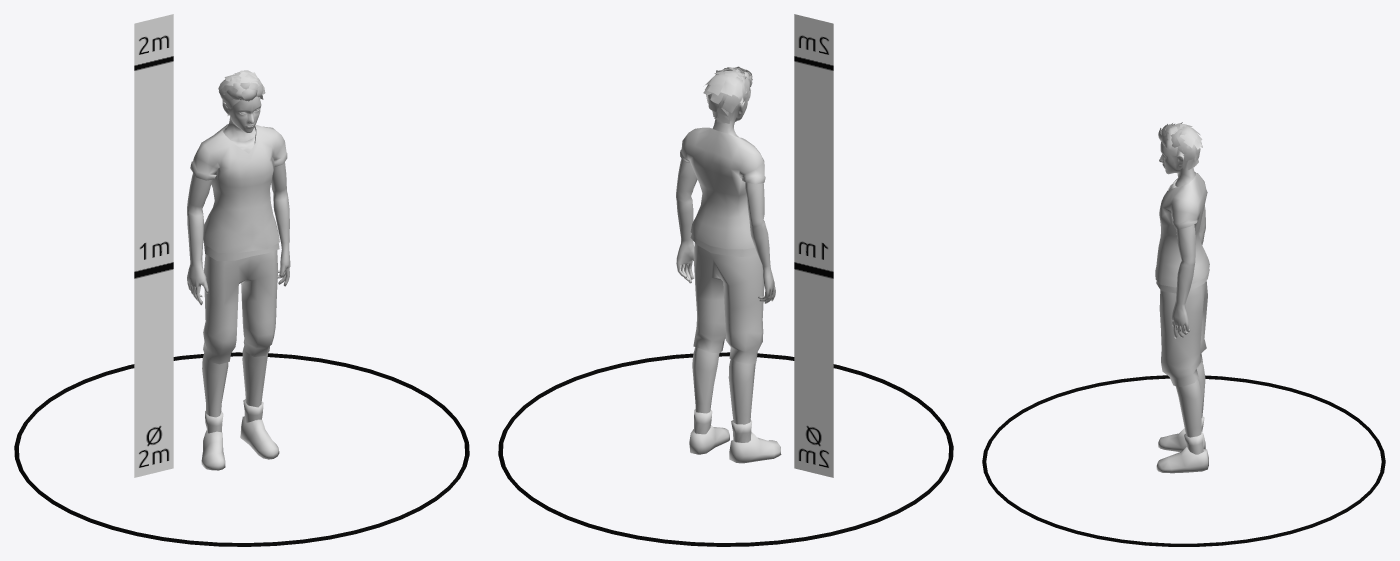
Rendered from boy.fbx.
The picture shows the model from 3 angles, left to right: view 1: azimuth 30°, elevation 25°; view 2: azimuth 150°, elevation 25°; view 3: azimuth 270°, elevation 25°; orthographic projection. The views are drawn at different scales.
Parts seen in each view (by area): view 1: boy, barre; view 2: boy, barre; view 3: boy, barre.
Part boxes in pixels (x1=…): boy: x1=187, y1=70, x2=290, y2=470; barre: x1=14, y1=14, x2=469, y2=546; boy: x1=676, y1=66, x2=781, y2=463; barre: x1=498, y1=14, x2=953, y2=546; boy: x1=1155, y1=122, x2=1209, y2=473; barre: x1=982, y1=375, x2=1385, y2=546.
Bounding box in the file's own units: 200 × 200 × 220.
